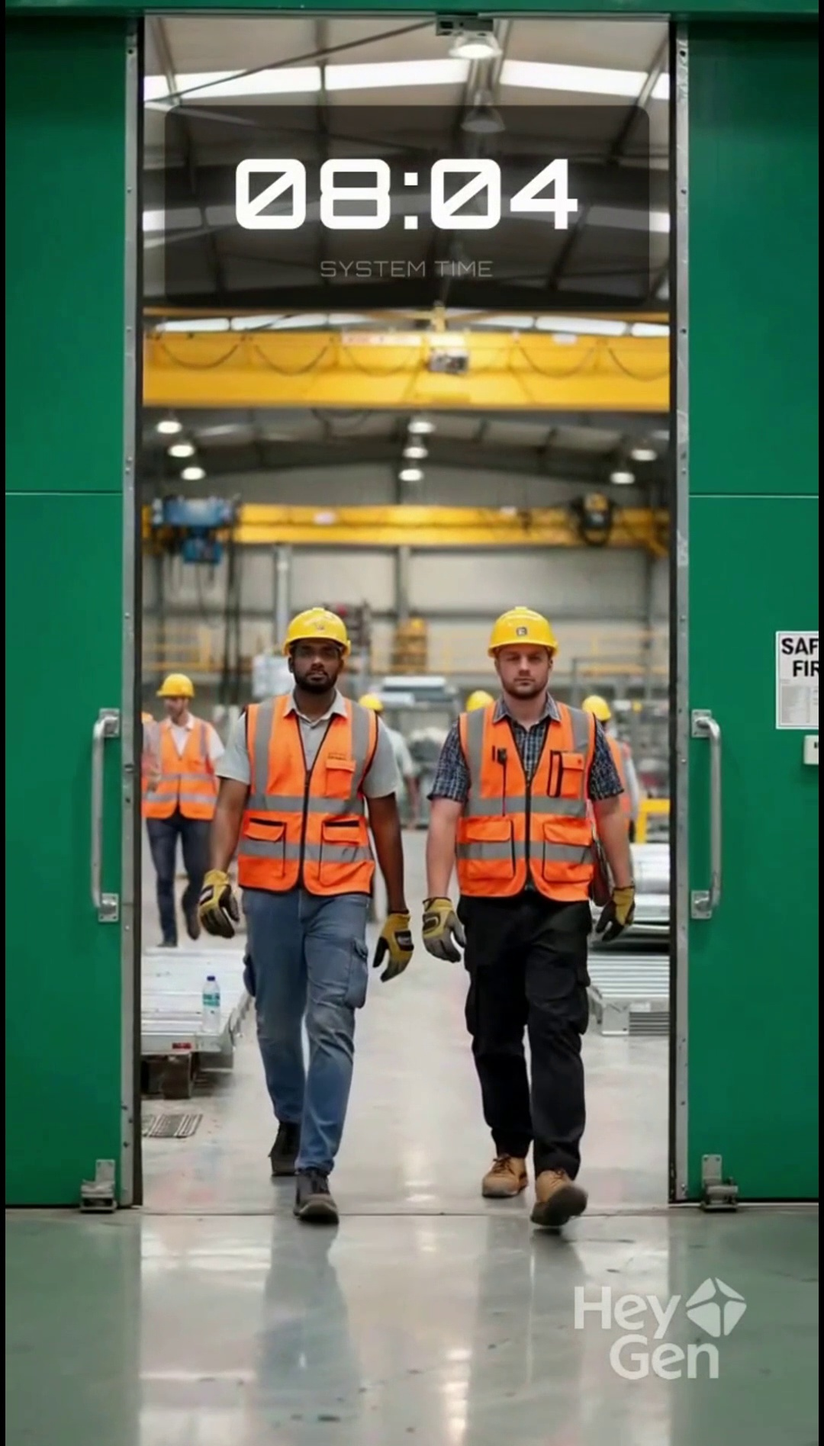Amir: (483, 607, 597, 742)
Sami: (249, 597, 371, 728)
employe: (419, 561, 635, 1227), (219, 552, 395, 1227)
